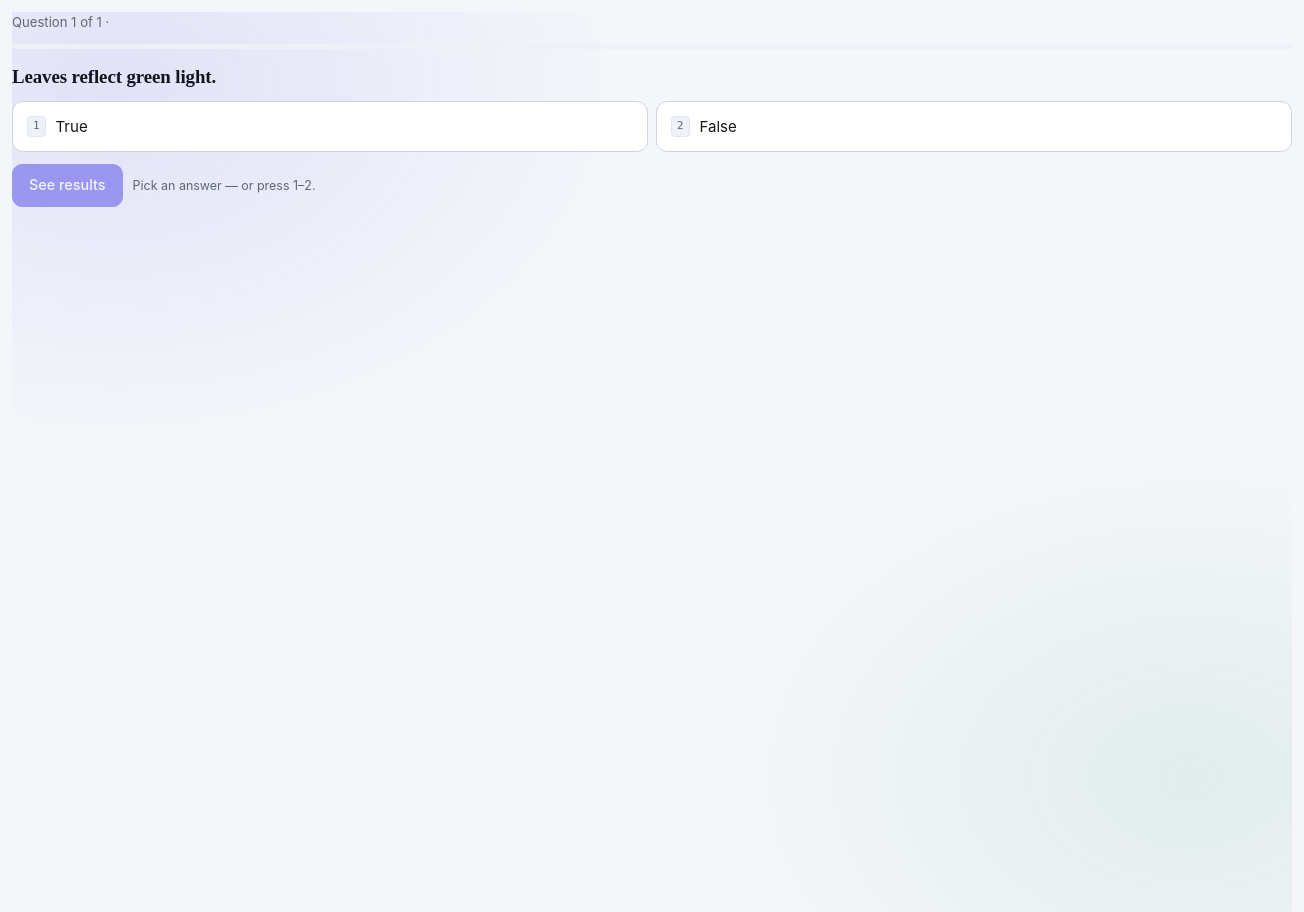
Test: Quiz › a failed explanation can be retried
Type keys "2"
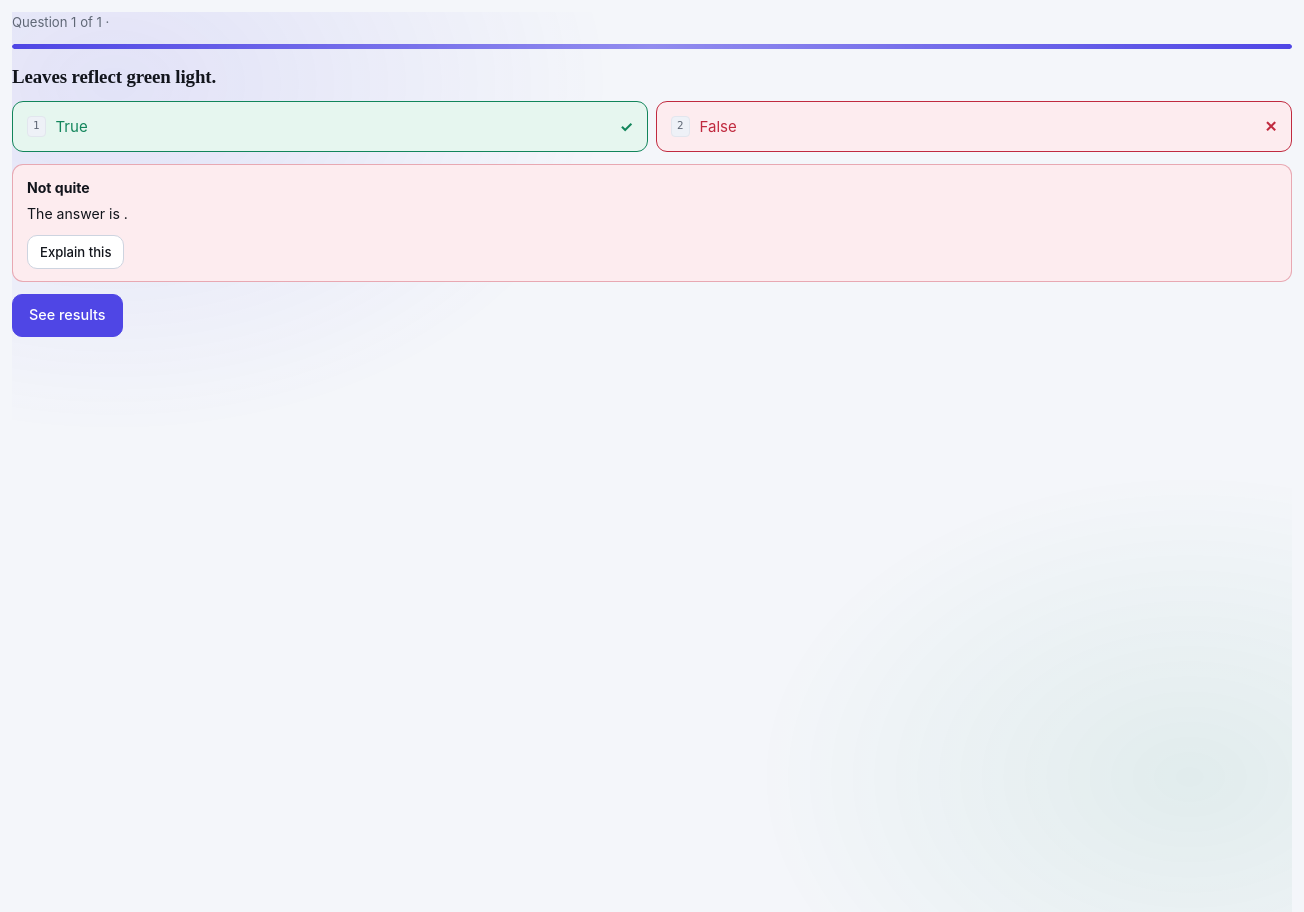
Click the button "Explain this".
click(76, 252)  # box [27,235,124,269]
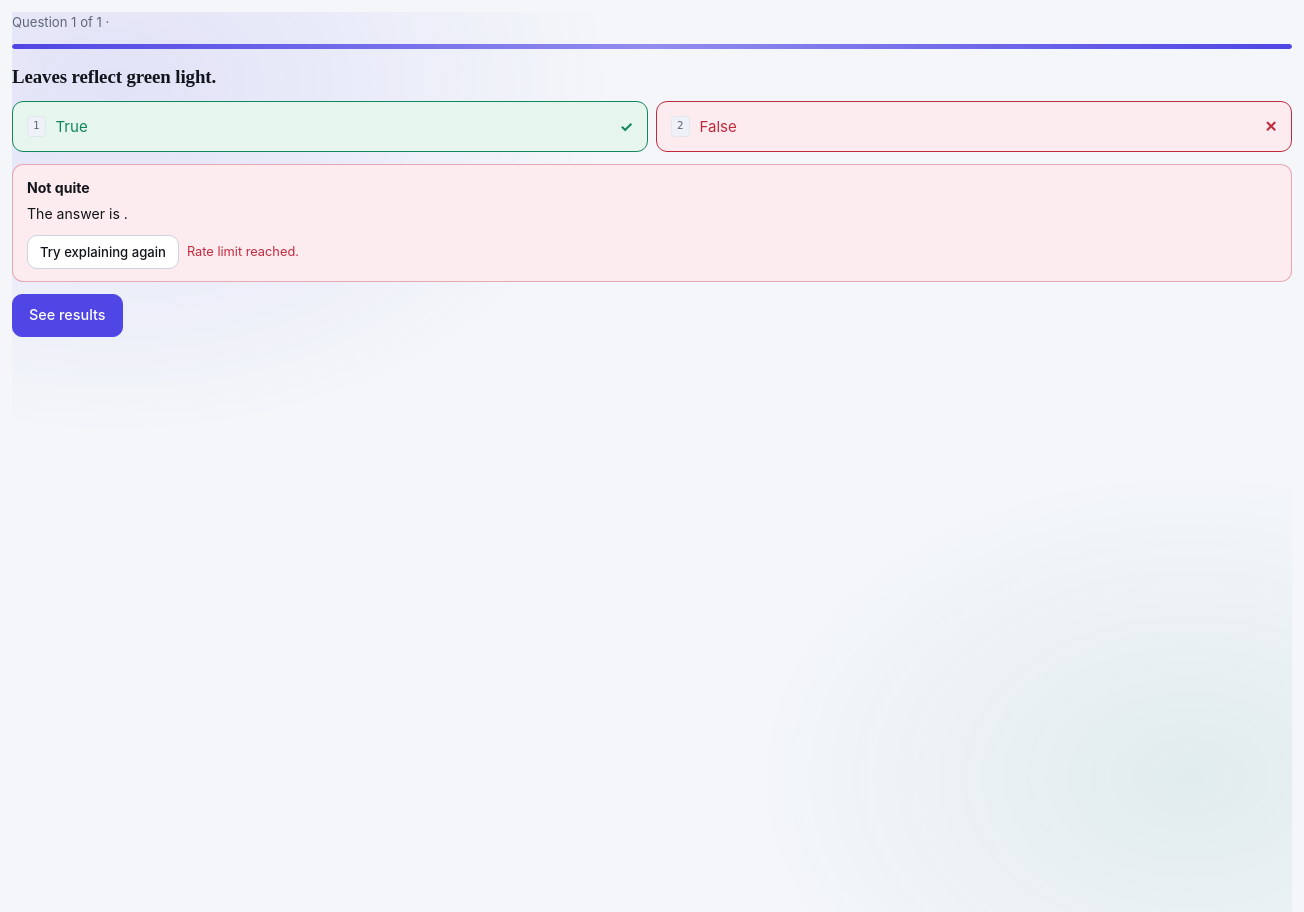
Result: the text "Rate limit reached." is shown at [187,242,299,262]
Click the button "Try explaining again".
click(103, 252)  # box [27,235,179,269]
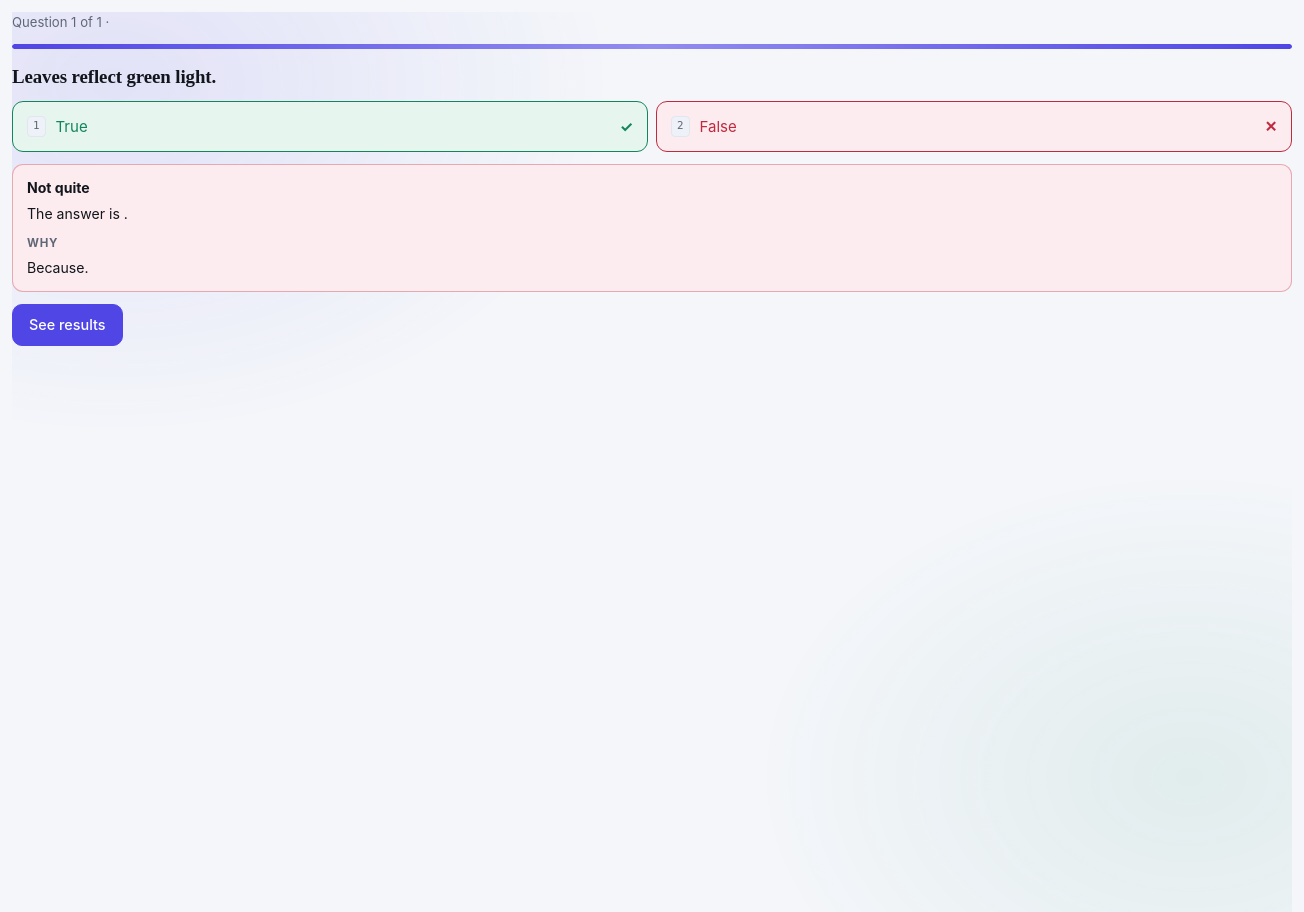
Result: the text "Because." is shown at [27,259,88,276]
